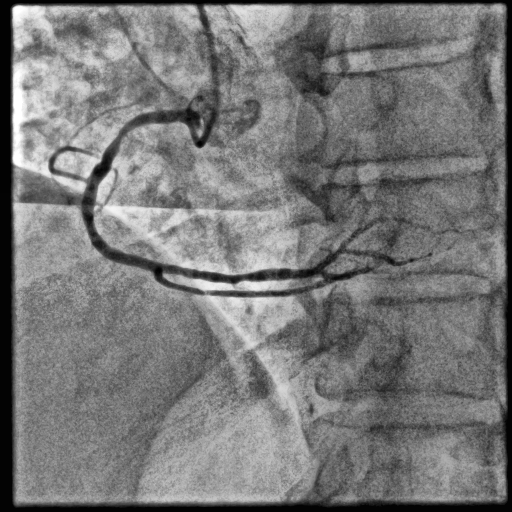pborca: (157, 217, 462, 283)
pda: (153, 267, 498, 298)
rca: (81, 109, 193, 272)
